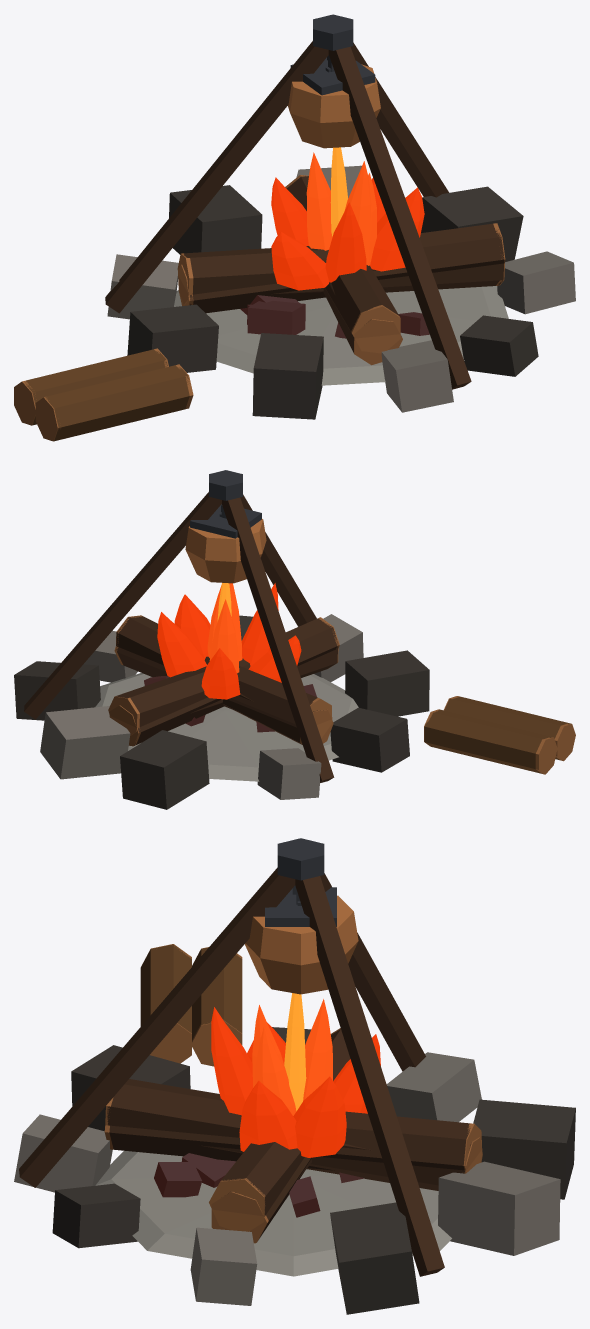
3 renders of one model, top to bottom at view 1: azimuth 30°, elevation 25°; view 2: azimuth 150°, elevation 25°; view 3: azimuth 270°, elevation 25°, orthographic. The views are drawn at different scales.
Parts seen in each view (by area): view 1: CF-wood_dark, CF-stone_dark, CF-stone_mid, CF-wood_mid, CF-ash, CF-flame_out, CF-wood_warm, CF-copper, CF-ember, CF-coal, CF-iron, CF-flame_in; view 2: CF-wood_dark, CF-stone_dark, CF-stone_mid, CF-ash, CF-wood_mid, CF-flame_out, CF-wood_warm, CF-copper, CF-iron, CF-ember, CF-coal; view 3: CF-wood_dark, CF-stone_mid, CF-stone_dark, CF-ash, CF-flame_out, CF-wood_warm, CF-copper, CF-wood_mid, CF-ember, CF-coal, CF-iron, CF-flame_in.
Boxes of the visible parts, box(x1,y1,x2,y2) form: CF-wood_dark: box(105, 41, 504, 389); CF-stone_dark: box(127, 185, 538, 419); CF-stone_mid: box(107, 165, 575, 412); CF-wood_mid: box(24, 349, 189, 441); CF-ash: box(174, 286, 508, 385); CF-flame_out: box(271, 177, 424, 290); CF-wood_warm: box(14, 175, 505, 441); CF-copper: box(288, 64, 380, 148); CF-ember: box(306, 152, 376, 265); CF-coal: box(240, 295, 429, 338); CF-iron: box(290, 14, 375, 95); CF-flame_in: box(330, 147, 347, 236); CF-wood_dark: box(24, 492, 338, 782); CF-stone_dark: box(14, 615, 429, 809); CF-stone_mid: box(40, 614, 363, 799); CF-ash: box(95, 673, 358, 781); CF-wood_mid: box(424, 696, 570, 773); CF-flame_out: box(157, 583, 301, 699); CF-wood_warm: box(108, 615, 575, 774); CF-copper: box(185, 519, 266, 583); CF-iron: box(190, 470, 261, 538); CF-ember: box(207, 583, 242, 673); CF-coal: box(144, 676, 316, 732); CF-wood_dark: box(19, 867, 471, 1276); CF-stone_mid: box(14, 1052, 560, 1305); CF-stone_dark: box(52, 1027, 575, 1314); CF-ash: box(95, 1150, 451, 1276); CF-flame_out: box(211, 1007, 380, 1157); CF-wood_warm: box(104, 944, 482, 1243); CF-copper: box(245, 895, 358, 994); CF-wood_mid: box(140, 944, 242, 1039); CF-ember: box(252, 999, 332, 1115); CF-coal: box(154, 1153, 364, 1217); CF-iron: box(265, 838, 336, 926); CF-flame_in: box(284, 993, 306, 1111).
Bounding box in the file's own units: 2.05 × 1.08 × 1.56.
